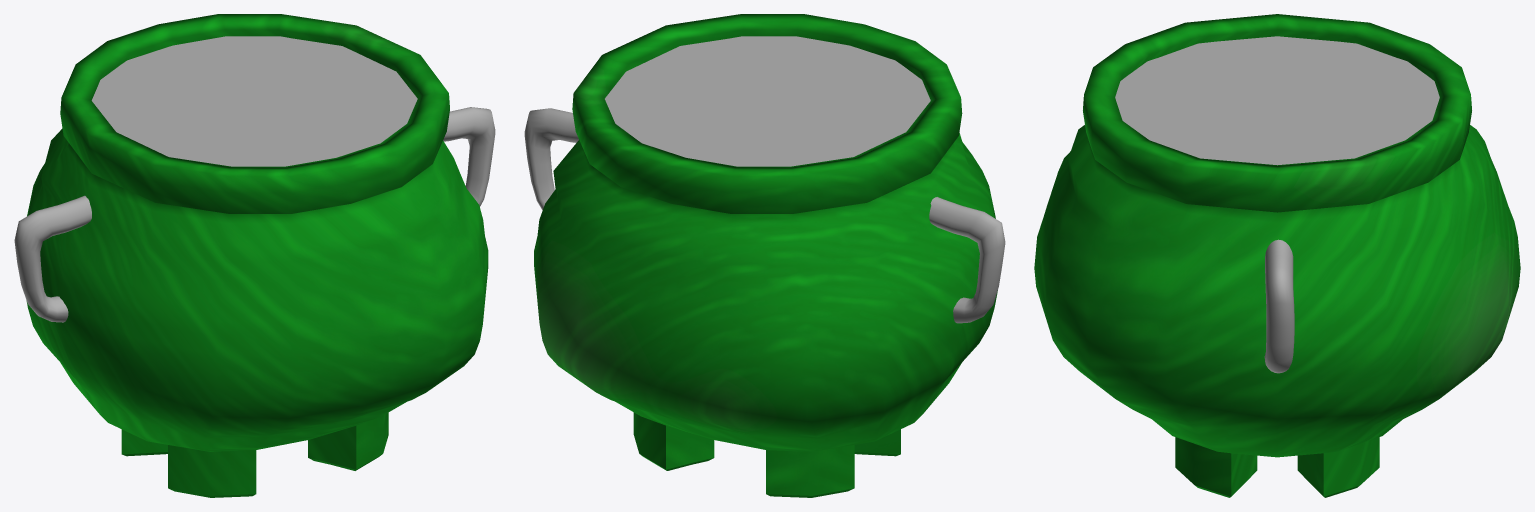
File: Witch's Cauldron  upgrade3 1.fbx
The picture shows the model from 3 angles, left to right: view 1: azimuth 30°, elevation 25°; view 2: azimuth 150°, elevation 25°; view 3: azimuth 270°, elevation 25°; orthographic projection.
Visible parts, largest first — view 1: pSphere1, pDisc1, PM3D_pTorus1; view 2: pSphere1, pDisc1, PM3D_pTorus1; view 3: pSphere1, pDisc1, PM3D_pTorus1.
Part boxes in pixels (x1=…): pSphere1: x1=26, y1=14, x2=488, y2=497; pDisc1: x1=91, y1=36, x2=417, y2=166; PM3D_pTorus1: x1=14, y1=107, x2=495, y2=322; pSphere1: x1=534, y1=14, x2=997, y2=497; pDisc1: x1=605, y1=36, x2=930, y2=166; PM3D_pTorus1: x1=524, y1=108, x2=1005, y2=323; pSphere1: x1=1034, y1=14, x2=1520, y2=497; pDisc1: x1=1115, y1=36, x2=1439, y2=165; PM3D_pTorus1: x1=1264, y1=239, x2=1294, y2=373.
Bounding box in the file's own units: 7.21 × 5.09 × 6.36.
